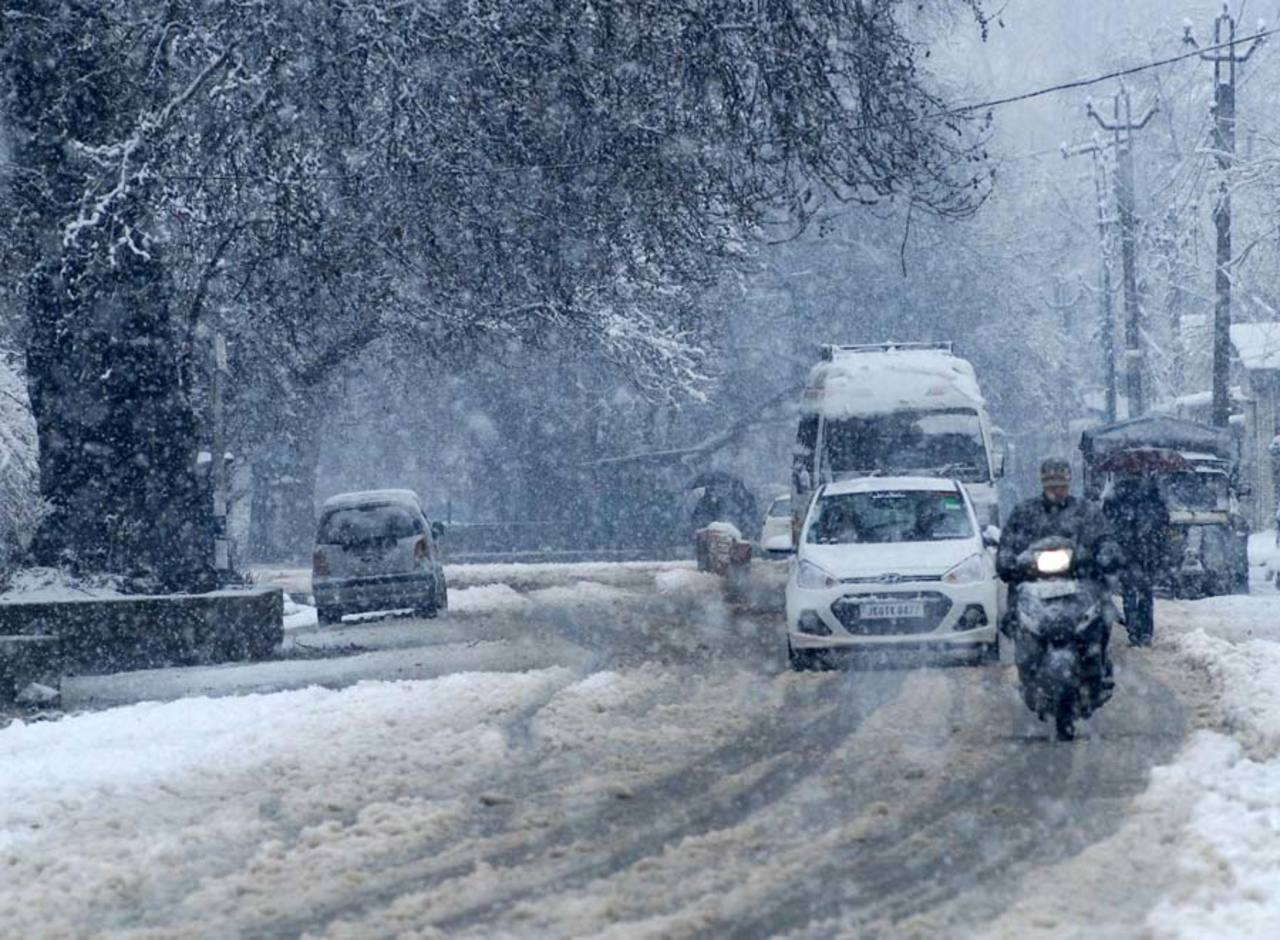bus: (783, 329, 1001, 565)
car: (785, 471, 1002, 673), (310, 486, 447, 612), (761, 493, 795, 555)
motorcycle: (1000, 518, 1121, 743)
person: (997, 465, 1126, 730)
